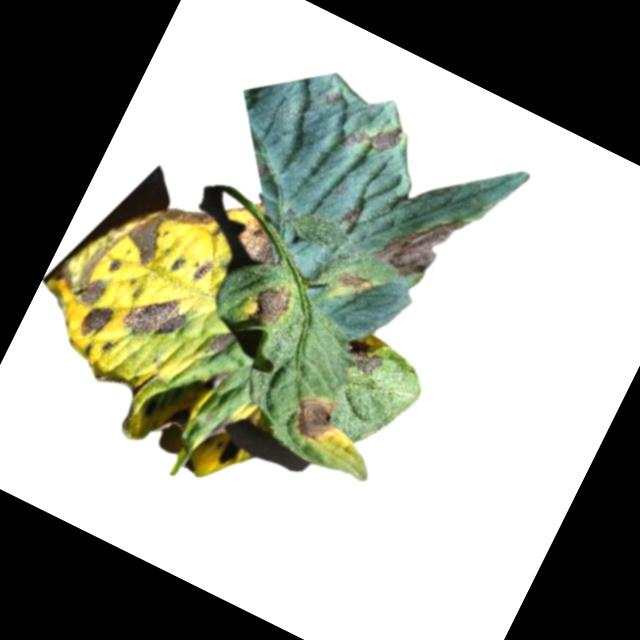Early_blight: (367, 188, 468, 290), (117, 185, 215, 284), (118, 277, 199, 355), (340, 104, 405, 165), (65, 239, 122, 308), (288, 388, 347, 448), (232, 213, 291, 271), (245, 274, 299, 336), (78, 297, 118, 343), (341, 335, 385, 375), (205, 324, 239, 360), (336, 266, 372, 298), (188, 253, 218, 289), (340, 200, 363, 224), (322, 88, 345, 108), (104, 256, 123, 276)
